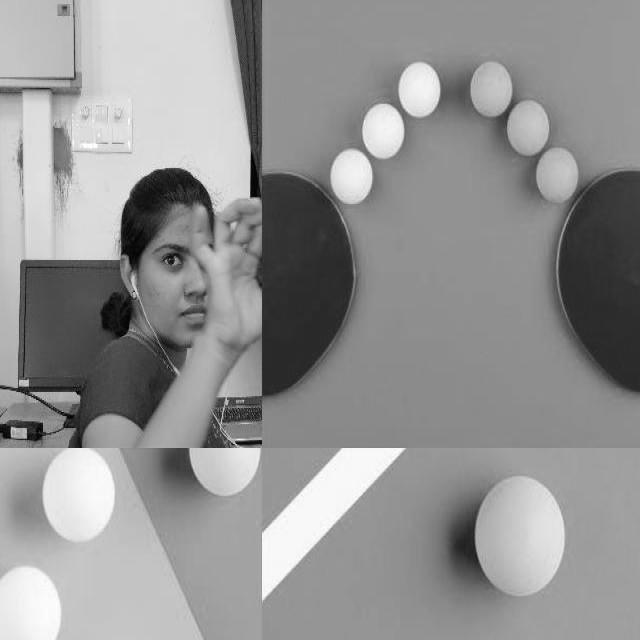ping-pong-ball: (474, 477, 564, 595), (187, 448, 260, 492), (468, 62, 510, 114), (536, 148, 578, 200), (397, 62, 439, 114), (330, 150, 372, 202), (360, 105, 402, 156), (507, 102, 547, 154)
